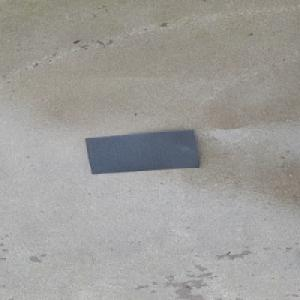PaintChip: (85, 128, 201, 174)
